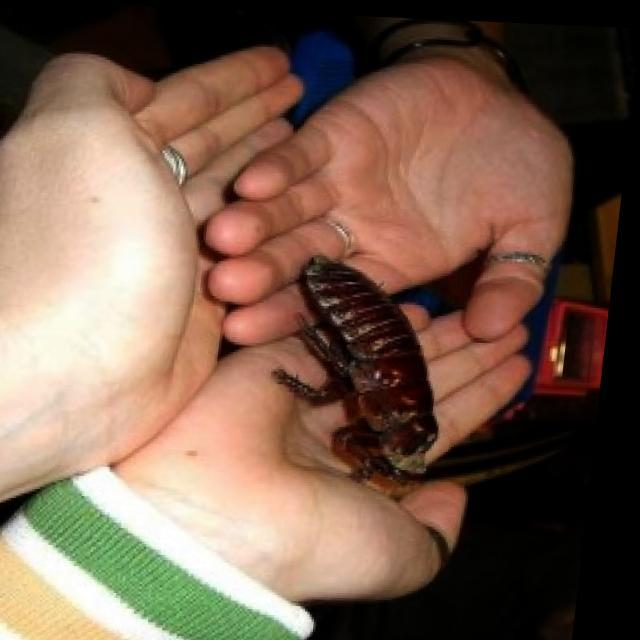cockroach: (268, 252, 444, 502)
